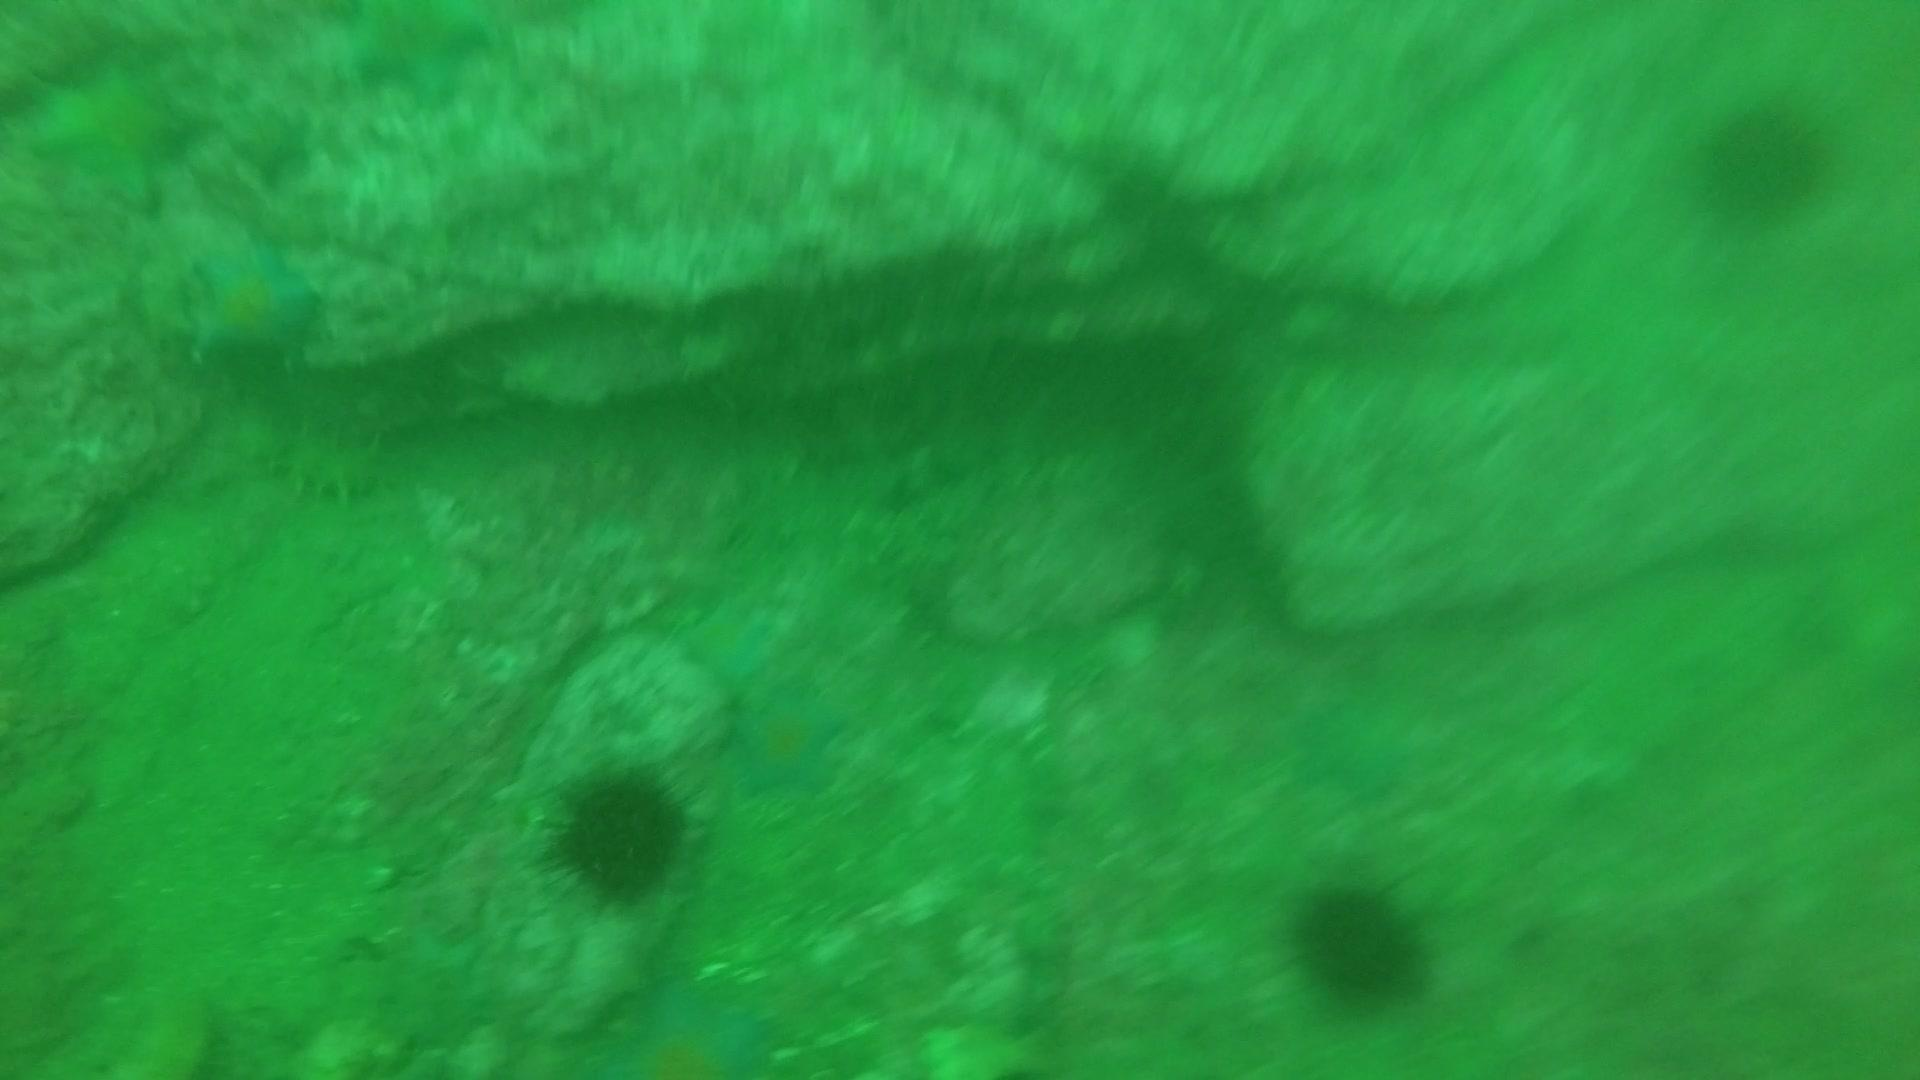echinus: (541, 760, 699, 909), (1687, 88, 1840, 231), (1283, 872, 1436, 1013)
holothurian: (214, 414, 400, 510)
starfish: (22, 53, 207, 208), (179, 236, 326, 371), (592, 975, 781, 1075), (328, 3, 504, 105), (724, 680, 852, 800), (671, 585, 790, 692)
